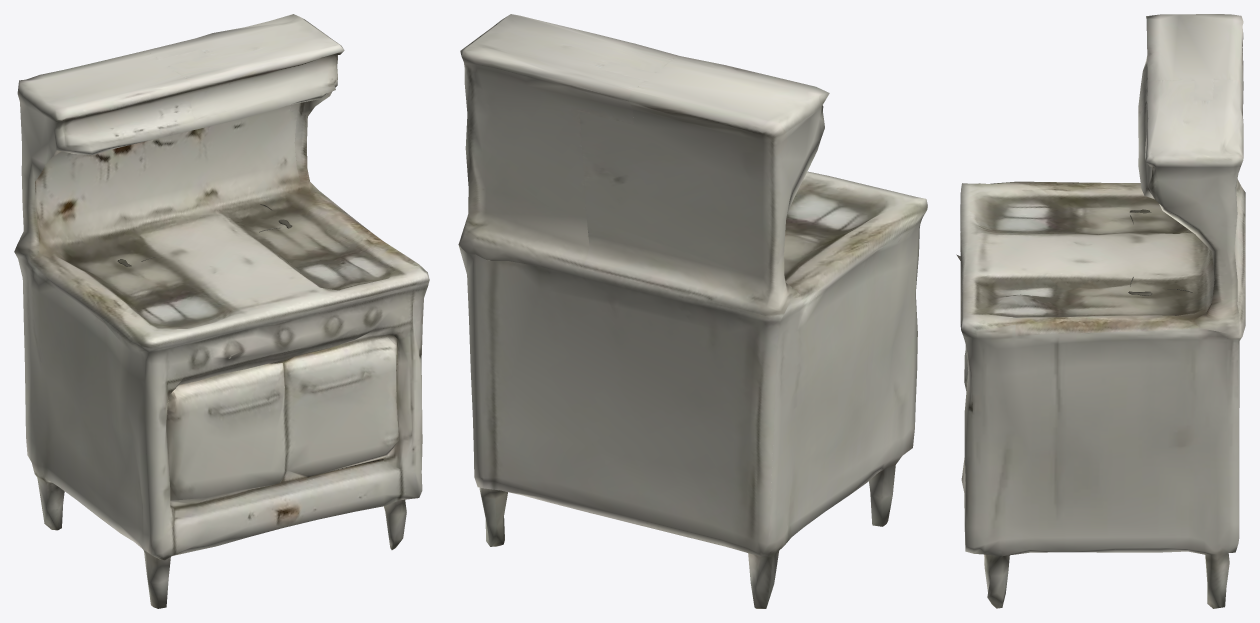
The model's file is stove.glb.
3 views of the same model, side by side, from view 1: azimuth 30°, elevation 25°; view 2: azimuth 150°, elevation 25°; view 3: azimuth 270°, elevation 25° (orthographic). The views are drawn at different scales.
Parts seen in each view (by area): view 1: stove; view 2: stove; view 3: stove.
Boxes of the visible parts, box(x1,y1,x2,y2) form: stove: box(14, 14, 429, 608); stove: box(458, 14, 927, 608); stove: box(956, 14, 1245, 608).
Size of the model in its own units: 0.6 by 0.88 by 0.5.
Materials: 1 (1 with a texture image).
